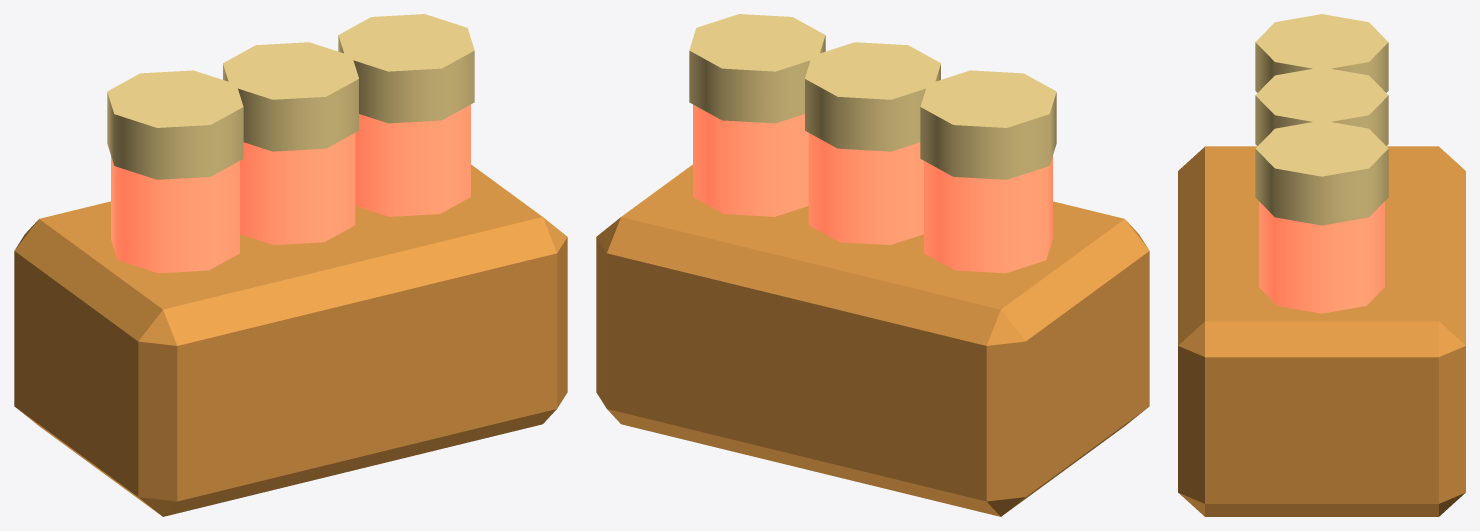
The model's file is item_ammo_shells.glb.
The picture shows the model from 3 angles, left to right: view 1: azimuth 30°, elevation 25°; view 2: azimuth 150°, elevation 25°; view 3: azimuth 270°, elevation 25°; orthographic projection. The views are drawn at different scales.
Parts seen in each view (by area): view 1: ammo_shells; view 2: ammo_shells; view 3: ammo_shells.
Boxes of the visible parts, left/top/right/bottom form: ammo_shells: left=14, top=14, right=567, bottom=516; ammo_shells: left=596, top=14, right=1149, bottom=516; ammo_shells: left=1178, top=14, right=1465, bottom=516.
Size of the model in its own units: 0.26 by 0.205 by 0.16.
